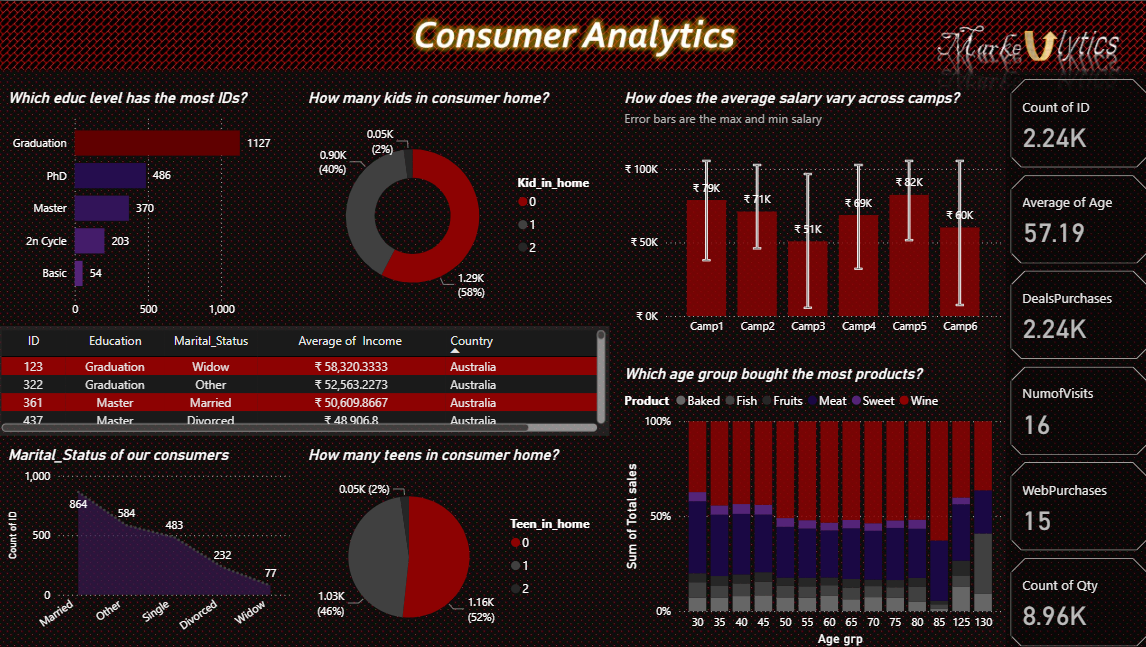

The dashboard page shown, as its layout file describes it:
{"tool":"powerbi","page":{"name":"Consumer Composition","canvas":[1280,720],"ordinal":1},"visuals":[{"type":"areaChart","title":"Marital_Status of our consumers","fields":{"Category":["marketmindz_research_data.Marital_Status"],"Y":["CountNonNull(marketmindz_research_data.ID)"]},"box":[8.4,493.1,322.2,226.9],"z":0},{"type":"clusteredBarChart","title":"Which educ level has the most IDs?","fields":{"Category":["marketmindz_research_data.Education"],"Y":["CountNonNull(marketmindz_research_data.ID)"]},"box":[8.4,96.7,322.2,263.3],"z":1000},{"type":"donutChart","title":"How many kids in consumer home?","fields":{"Y":["CountNonNull(marketmindz_research_data.ID)"],"Category":["marketmindz_research_data.Kid_in_home"]},"box":[340.4,96.7,339,263.3],"z":2000},{"type":"pieChart","title":"How many teens in consumer home?","fields":{"Y":["CountNonNull(marketmindz_research_data.ID)"],"Category":["marketmindz_research_data.Teen_in_home"]},"box":[340.4,493.1,339,226.9],"z":3000},{"type":"clusteredColumnChart","title":"How does the average salary vary across camps?","fields":{"Category":["campaignsOnly.Campaign"],"Y":["Avg(marketmindz_research_data. Income )"]},"box":[690.6,96.7,427.2,281.6],"z":4000},{"type":"hundredPercentStackedColumnChart","title":"Which age group bought the most products?","fields":{"Y":["Sum(productsOnly.Total sales)"],"Series":["productsOnly.Product"],"Category":["marketmindz_research_data.Age grp"]},"box":[690.6,403.4,427.2,316.6],"z":5000},{"type":"tableEx","fields":{"Values":["productsOnly.ID","marketmindz_research_data.Education","marketmindz_research_data.Marital_Status","Avg(marketmindz_research_data. Income )","marketmindz_research_data.Country"]},"box":[0,359.9,679.6,121.8],"z":6000},{"type":"cardVisual","fields":{"Data":["CountNonNull(marketmindz_research_data.ID)","Avg(marketmindz_research_data.Age)","CountNonNull(marketmindz_research_data.DealsPurchases)","Count(marketmindz_research_data.NumWebVisitsMonth)","Count(marketmindz_research_data.WebPurchases)","CountNonNull(purchasesOnly.Qty)"]},"box":[1118,81.2,162.3,639.4],"z":8000}]}

Visuals, with their boxes in screenshot pixels (x1, y1, x2, y2), scaled from the page's 1280x720 canvas onto the 1146x647 screenshot:
"Marital_Status of our consumers" areaChart: region(8, 443, 296, 646)
"Which educ level has the most IDs?" clusteredBarChart: region(8, 87, 296, 324)
"How many kids in consumer home?" donutChart: region(305, 87, 608, 324)
"How many teens in consumer home?" pieChart: region(305, 443, 608, 646)
"How does the average salary vary across camps?" clusteredColumnChart: region(618, 87, 1001, 340)
"Which age group bought the most products?" hundredPercentStackedColumnChart: region(618, 362, 1001, 646)
tableEx - productsOnly.ID x marketmindz_research_data.Education: region(0, 323, 608, 433)
cardVisual - CountNonNull(marketmindz_research_data.ID) x Avg(marketmindz_research_data.Age): region(1001, 73, 1145, 646)
